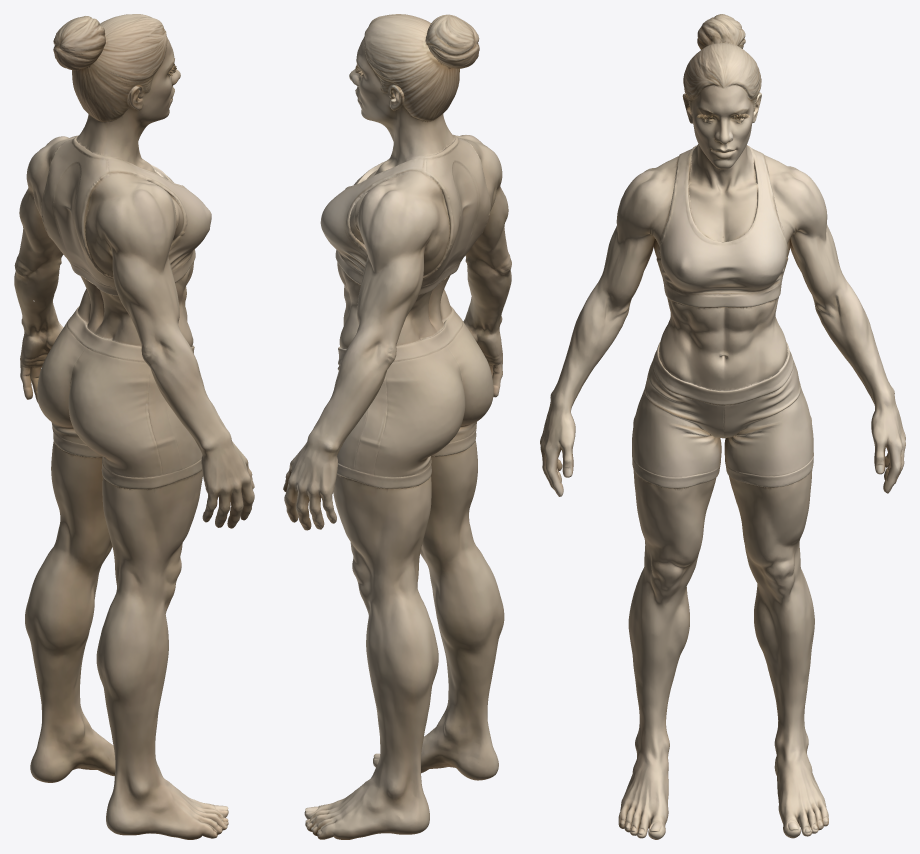
File: fitcheck-sculpture-female-slim-v1.glb
The picture shows the model from 3 angles, left to right: view 1: azimuth 30°, elevation 25°; view 2: azimuth 150°, elevation 25°; view 3: azimuth 270°, elevation 25°; orthographic projection. The views are drawn at different scales.
Visible parts, largest first — view 1: tripo_node_a89c0d6c-7d93-4377-9448-19fe145daedf; view 2: tripo_node_a89c0d6c-7d93-4377-9448-19fe145daedf; view 3: tripo_node_a89c0d6c-7d93-4377-9448-19fe145daedf.
Part boxes in pixels (x1=…): tripo_node_a89c0d6c-7d93-4377-9448-19fe145daedf: x1=14, y1=14, x2=254, y2=839; tripo_node_a89c0d6c-7d93-4377-9448-19fe145daedf: x1=283, y1=14, x2=511, y2=839; tripo_node_a89c0d6c-7d93-4377-9448-19fe145daedf: x1=540, y1=14, x2=905, y2=839.
Bounding box in the file's own units: 0.1767 × 0.9808 × 0.419.
1 material, 1 textured.
